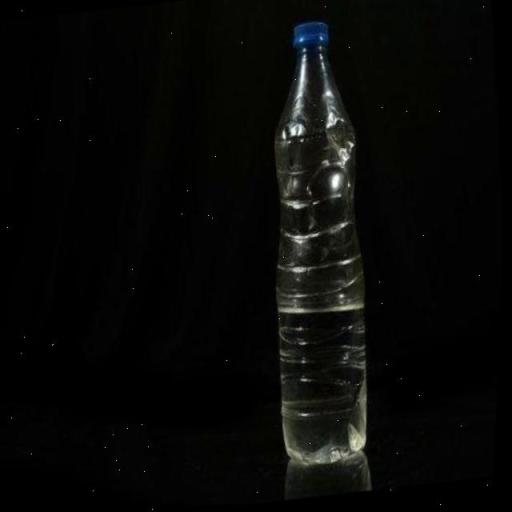plastic: (245, 13, 394, 476)
